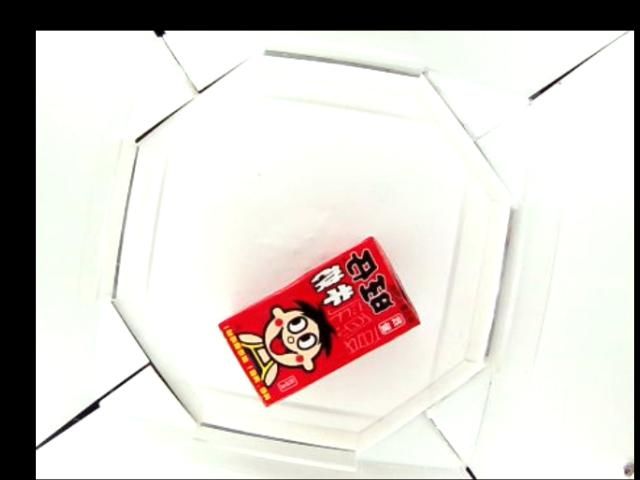Bottle: (219, 233, 422, 404)
